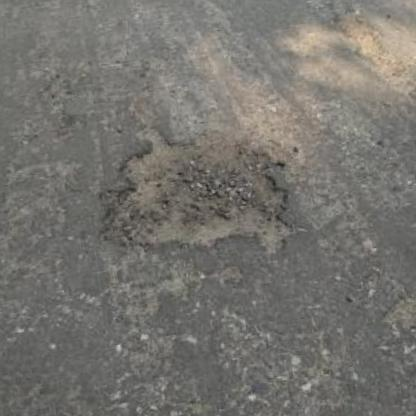pothole: (78, 108, 307, 277), (375, 291, 416, 339)
